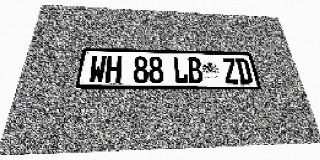8: (133, 56, 148, 83), (149, 56, 164, 83)
B: (187, 57, 203, 84)
D: (235, 58, 253, 84)
H: (105, 56, 122, 83)
L: (173, 57, 189, 84)
W: (88, 55, 107, 83)
Z: (222, 58, 240, 84)
